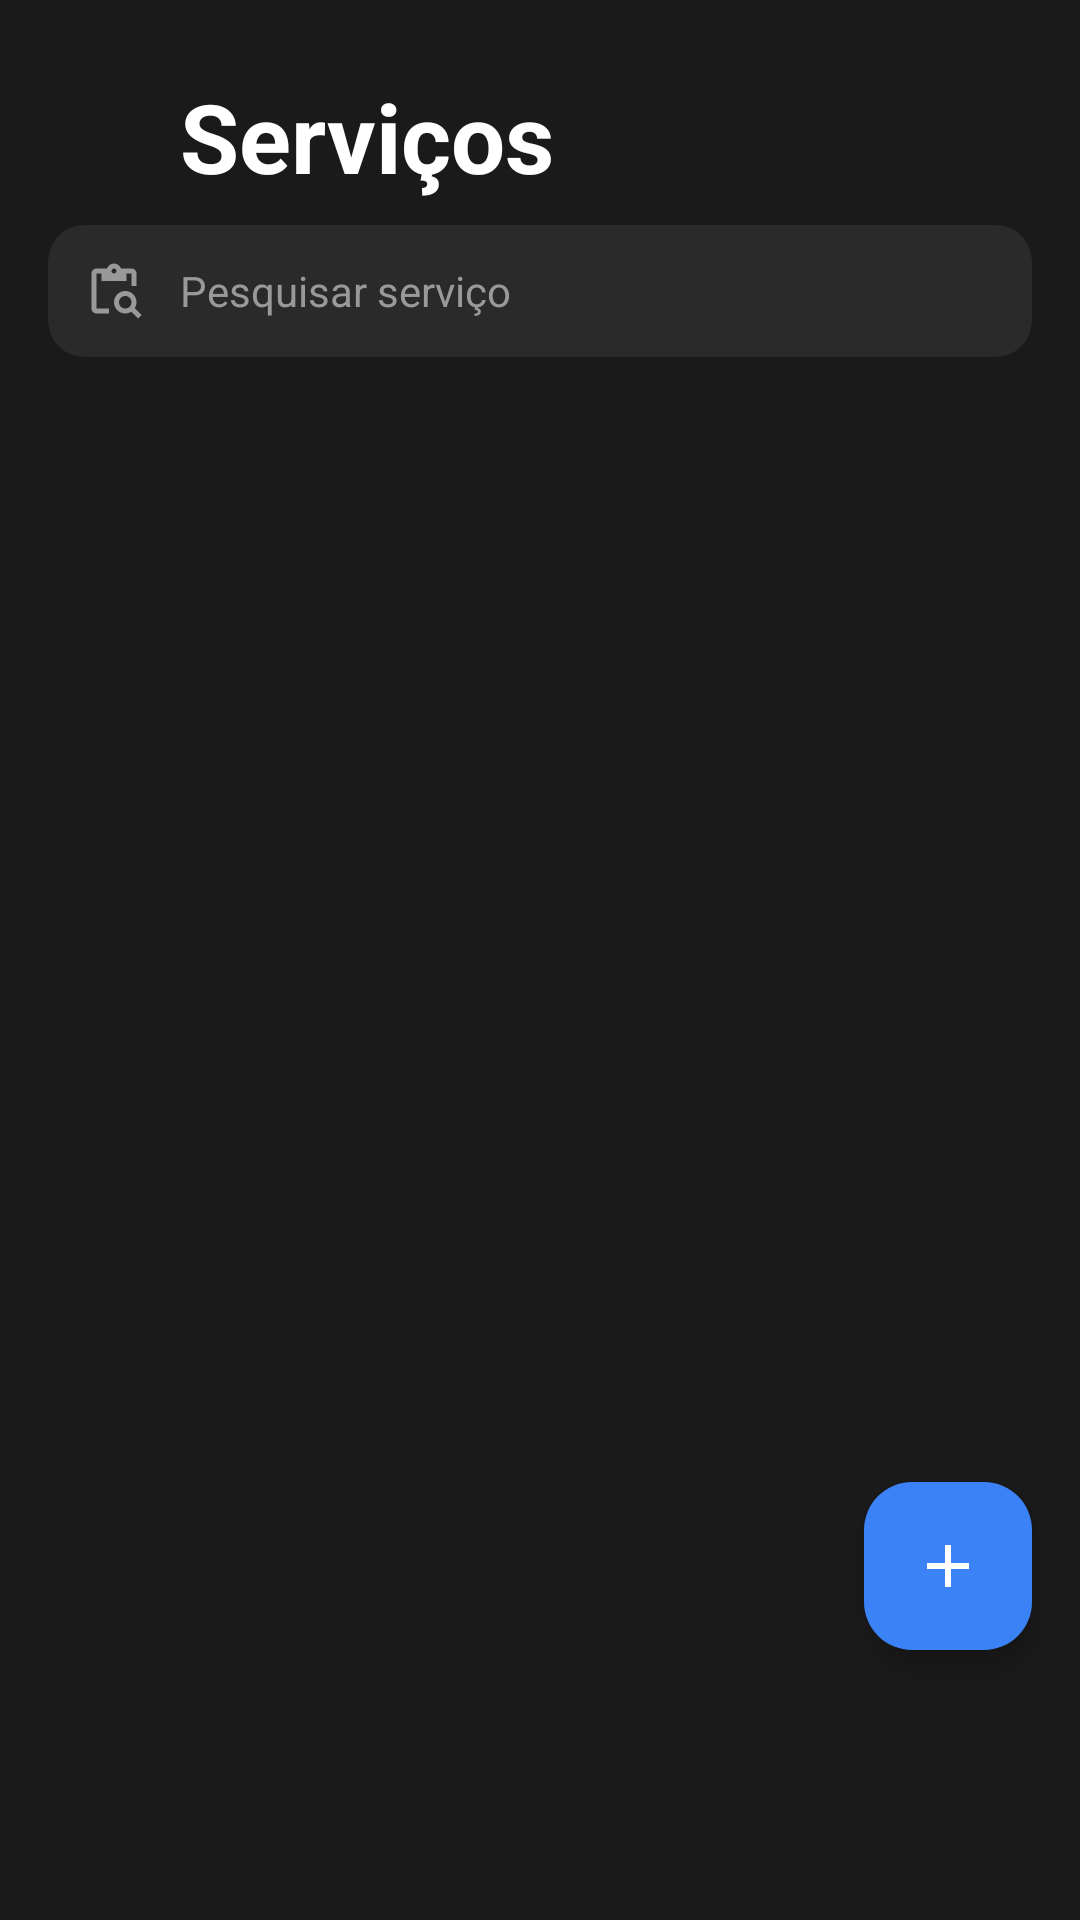

Point at icon controls on the screen. Image size 1080*1920, points as [x,y].
Adicionar serviço: [948,1566]
search: [116,290]
